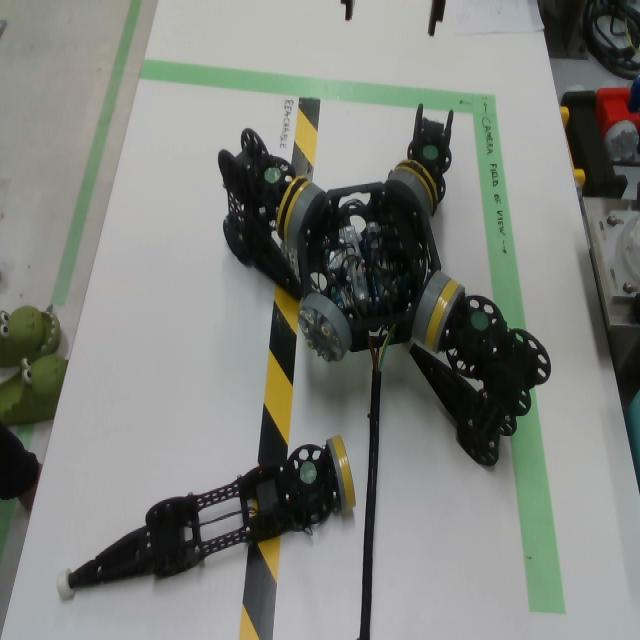body: (298, 183, 441, 353)
body_connector: (298, 293, 352, 363), (411, 271, 450, 344), (287, 184, 326, 247), (385, 171, 433, 215)
leg: (54, 436, 357, 601), (402, 279, 551, 467), (218, 128, 309, 300), (394, 104, 454, 216)
leg_connector: (425, 280, 465, 352), (396, 159, 438, 216), (325, 435, 356, 511), (276, 176, 309, 240)
leg_marker: (300, 461, 317, 484), (472, 312, 489, 331), (423, 145, 438, 159), (265, 168, 281, 181)
